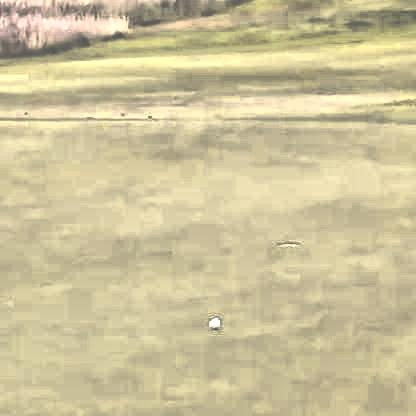golfball: (206, 314, 218, 328)
